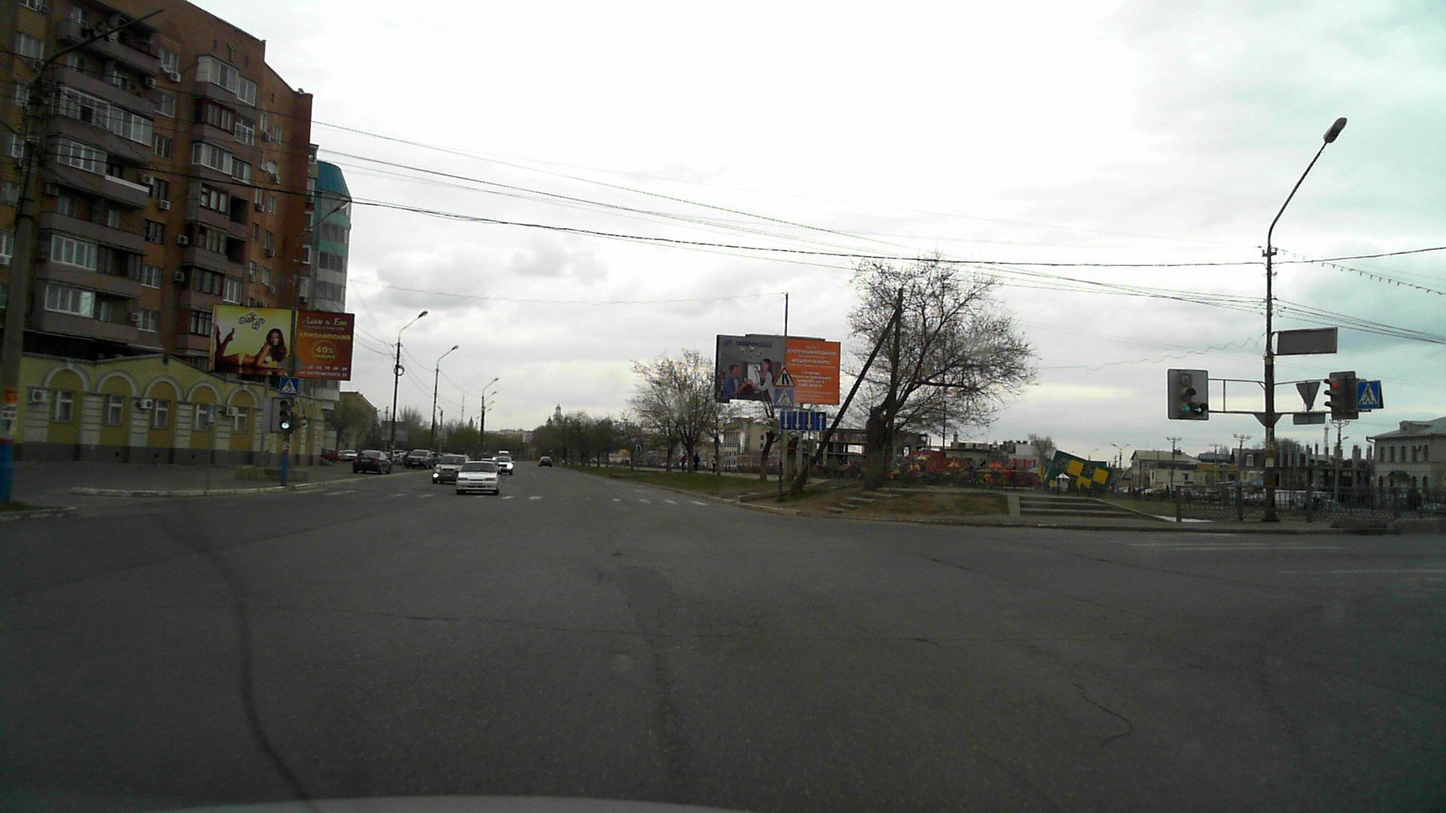off traffic light: (293, 414, 307, 431)
road_sign: (780, 410, 827, 432), (1357, 381, 1380, 409), (773, 367, 796, 387), (774, 389, 794, 408), (279, 377, 300, 395)
traffic light: (1178, 372, 1208, 417), (1323, 379, 1341, 417), (279, 399, 291, 431)
